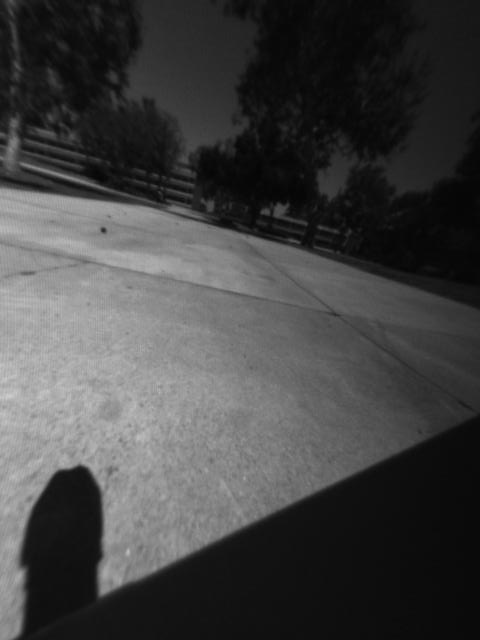dogtoy: (90, 216, 117, 242)
